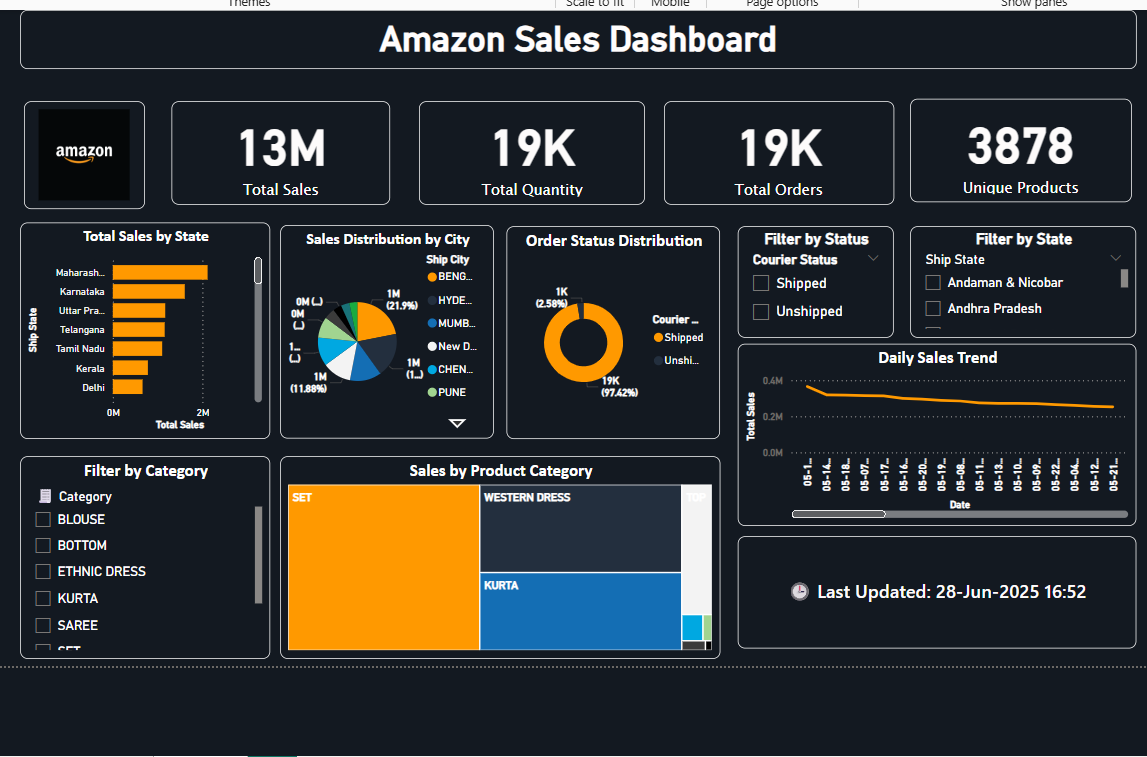

This screenshot's page, from the dashboard's own definition file:
{"tool":"powerbi","page":{"name":"Page 1","canvas":[1280,720],"ordinal":0},"visuals":[{"type":"card","fields":{"Values":["Cleaned_amazon_sales.Total_sales"]},"box":[194.9,100.2,240.1,113.9],"z":0},{"type":"card","fields":{"Values":["Cleaned_amazon_sales.Total_qty"]},"box":[466.6,100.2,248.4,113.9],"z":1000},{"type":"card","fields":{"Values":["Cleaned_amazon_sales.Total_orders"]},"box":[735.5,100.2,252.5,113.9],"z":2000},{"type":"card","fields":{"Values":["Cleaned_amazon_sales.unique_product"]},"box":[1005.8,97.4,242.9,113.9],"z":3000},{"type":"barChart","title":"Total Sales by State","fields":{"Category":["Cleaned_amazon_sales.ship-state"],"Y":["Sum(Cleaned_amazon_sales.Total_sale)"]},"box":[28.8,233.3,274.4,237.4],"z":4000},{"type":"pieChart","title":"Sales Distribution by City","fields":{"Category":["Cleaned_amazon_sales.ship-city"],"Y":["Sum(Cleaned_amazon_sales.Total_sale)"]},"box":[314.2,236,234.6,234.6],"z":5000},{"type":"donutChart","title":"Order Status Distribution","fields":{"Category":["Cleaned_amazon_sales.courier_status"],"Y":["Sum(Cleaned_amazon_sales.Order_count)"]},"box":[562.6,237.4,234.6,233.3],"z":6000},{"type":"treemap","title":"Sales by Product Category","fields":{"Values":["Sum(Cleaned_amazon_sales.Total_sale)"],"Group":["Cleaned_amazon_sales.category"]},"box":[314.2,489.9,483,222.3],"z":7000},{"type":"slicer","title":"Filter by Category","fields":{"Values":["Cleaned_amazon_sales.category"]},"box":[28.8,489.9,274.4,222.3],"z":8000},{"type":"slicer","title":"Filter by State","fields":{"Values":["Cleaned_amazon_sales.ship-state"]},"box":[1005.8,237.4,248.4,122.1],"z":9000},{"type":"slicer","title":"Filter by Status","fields":{"Values":["Cleaned_amazon_sales.courier_status"]},"box":[816.5,237.4,171.5,122.1],"z":10000},{"type":"lineChart","title":"Daily Sales Trend","fields":{"Y":["Sum(Cleaned_amazon_sales.Total_sale)"],"Category":["Cleaned_amazon_sales.date"]},"box":[816.5,366.4,437.7,200.3],"z":11000},{"type":"textbox","box":[28.8,0,1225.4,64.5],"z":12000},{"type":"image","box":[32.9,100.2,133.1,118],"z":13000},{"type":"card","fields":{"Values":["Cleaned_amazon_sales.Last_Updated_Date"]},"box":[816.5,577.7,437.7,123.5],"z":14000}]}

Visuals, with their boxes in screenshot pixels (x1, y1, x2, y2):
card - Cleaned_amazon_sales.Total_sales: [left=167, top=98, right=387, bottom=202]
card - Cleaned_amazon_sales.Total_qty: [left=416, top=98, right=643, bottom=202]
card - Cleaned_amazon_sales.Total_orders: [left=662, top=98, right=893, bottom=202]
card - Cleaned_amazon_sales.unique_product: [left=910, top=95, right=1132, bottom=200]
"Total Sales by State" barChart: [left=14, top=220, right=266, bottom=437]
"Sales Distribution by City" pieChart: [left=276, top=222, right=491, bottom=437]
"Order Status Distribution" donutChart: [left=503, top=223, right=718, bottom=437]
"Sales by Product Category" treemap: [left=276, top=455, right=718, bottom=658]
"Filter by Category" slicer: [left=14, top=455, right=266, bottom=658]
"Filter by State" slicer: [left=910, top=223, right=1137, bottom=335]
"Filter by Status" slicer: [left=736, top=223, right=893, bottom=335]
"Daily Sales Trend" lineChart: [left=736, top=342, right=1137, bottom=525]
textbox: [left=14, top=6, right=1137, bottom=65]
image: [left=18, top=98, right=140, bottom=206]
card - Cleaned_amazon_sales.Last_Updated_Date: [left=736, top=535, right=1137, bottom=648]
